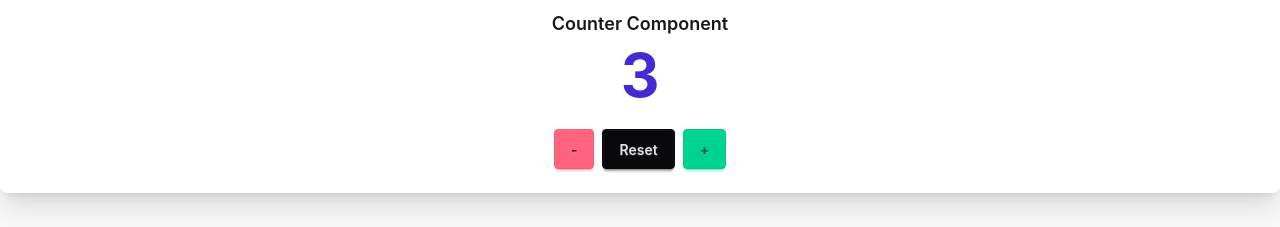
Test case: Counter Component Functionality › resets counter to initial value when reset button is clicked
This screenshot has width=1280, height=227.
Step 1. Click the button "+" → (704, 149), box left=683, top=129, right=726, bottom=169
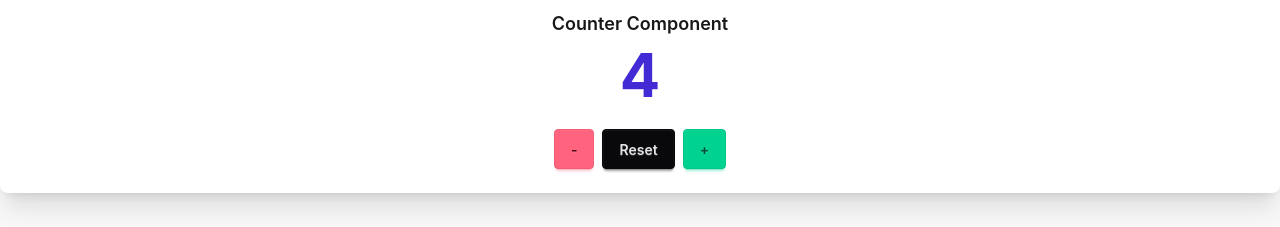
Step 2. Click the button "+" → (704, 149), box left=683, top=129, right=726, bottom=169
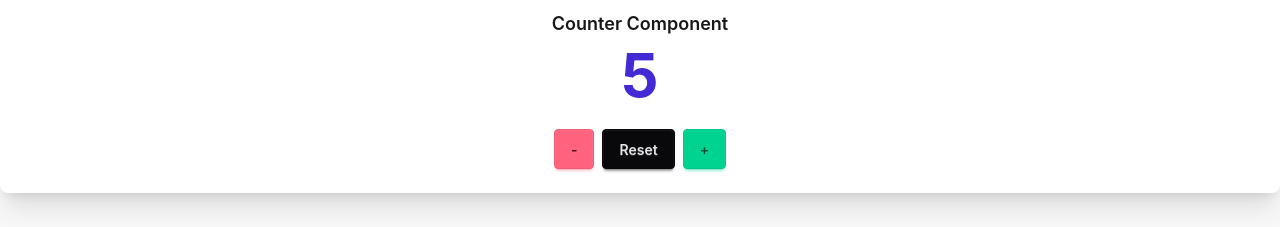
Step 3. Click the button "Reset" → (639, 149), box left=602, top=129, right=675, bottom=169
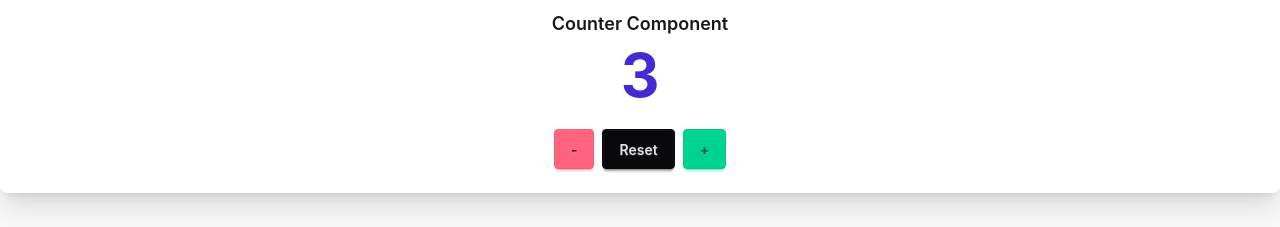
expect the text "3" is shown: met, box left=621, top=45, right=659, bottom=105
